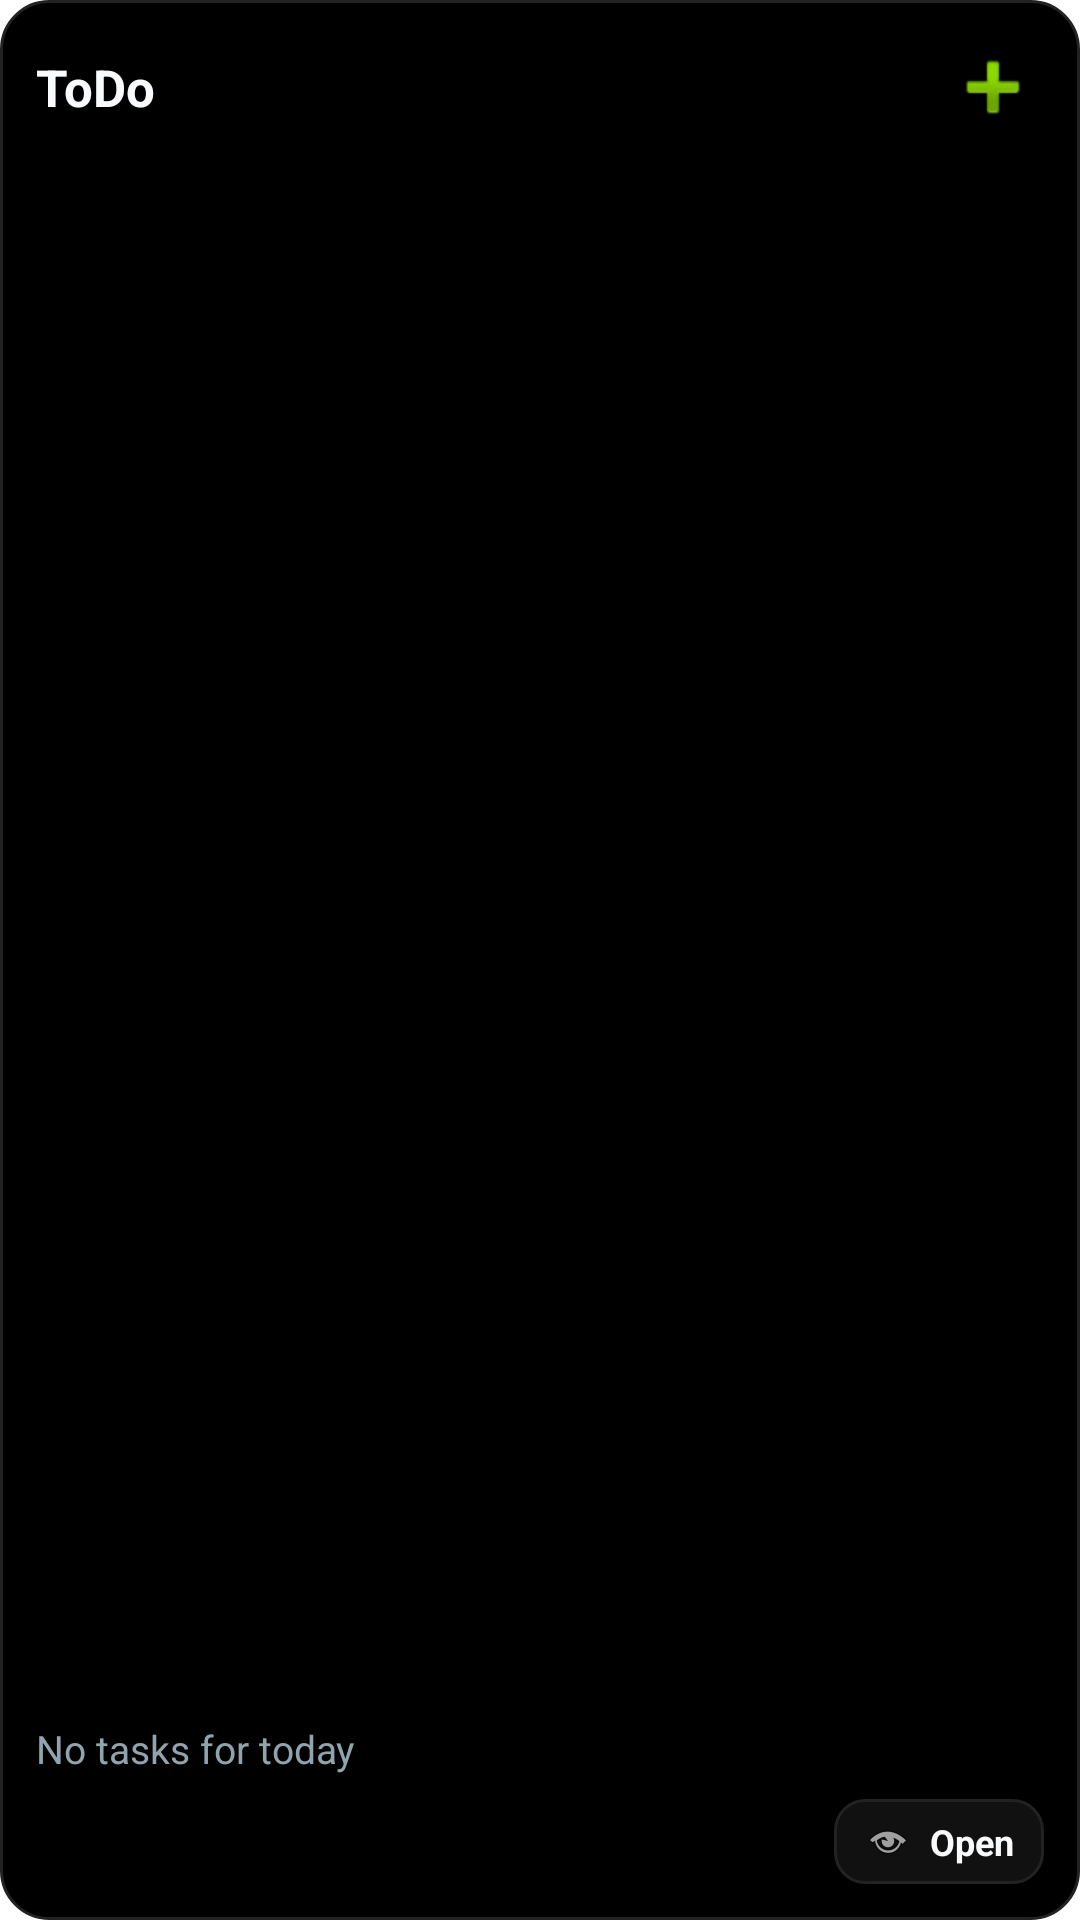

Icons on this 1080w x 1920h Android screen, each with the point to tap as [x,y]:
Add task: [993,87]
